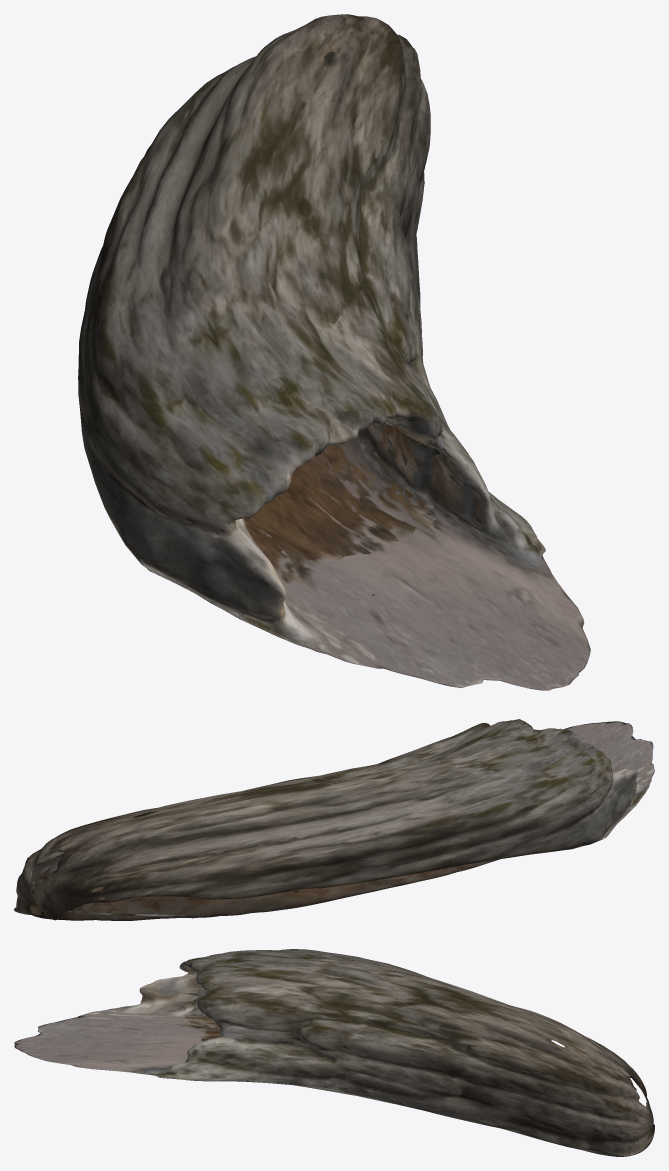
3 views of the same model, one above another, from view 1: azimuth 30°, elevation 25°; view 2: azimuth 150°, elevation 25°; view 3: azimuth 270°, elevation 25° (orthographic). The views are drawn at different scales.
Parts seen in each view (by area): view 1: Continuous cave shell; view 2: Continuous cave shell; view 3: Continuous cave shell.
Part boxes in pixels (<box>): Continuous cave shell: <box>78,14,590,690</box>; Continuous cave shell: <box>14,719,654,920</box>; Continuous cave shell: <box>14,949,654,1156</box>.
Bounding box in the file's own units: 33.74 × 8.41 × 56.81.
Materials: 1 (1 with a texture image).
